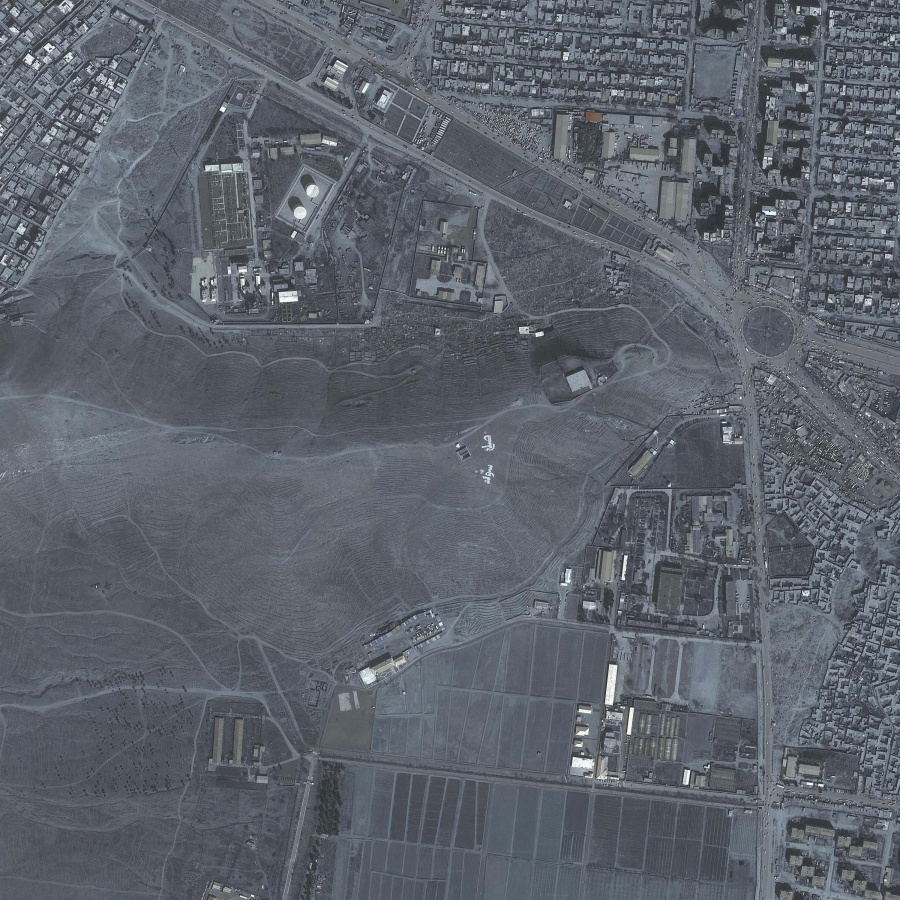PowerPlant: (200, 126, 343, 317)
